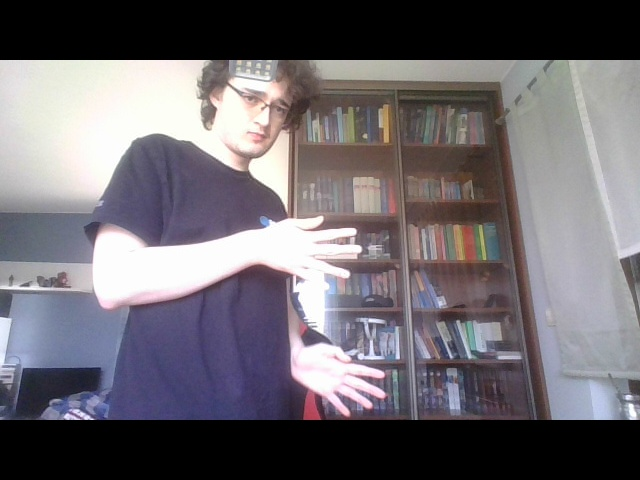hand: (286, 337, 395, 421), (249, 212, 364, 291)
